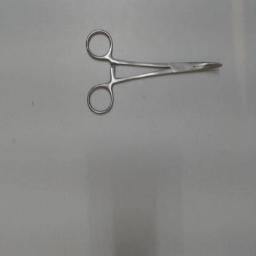Crile Artery Forceps: (85, 24, 227, 116)
